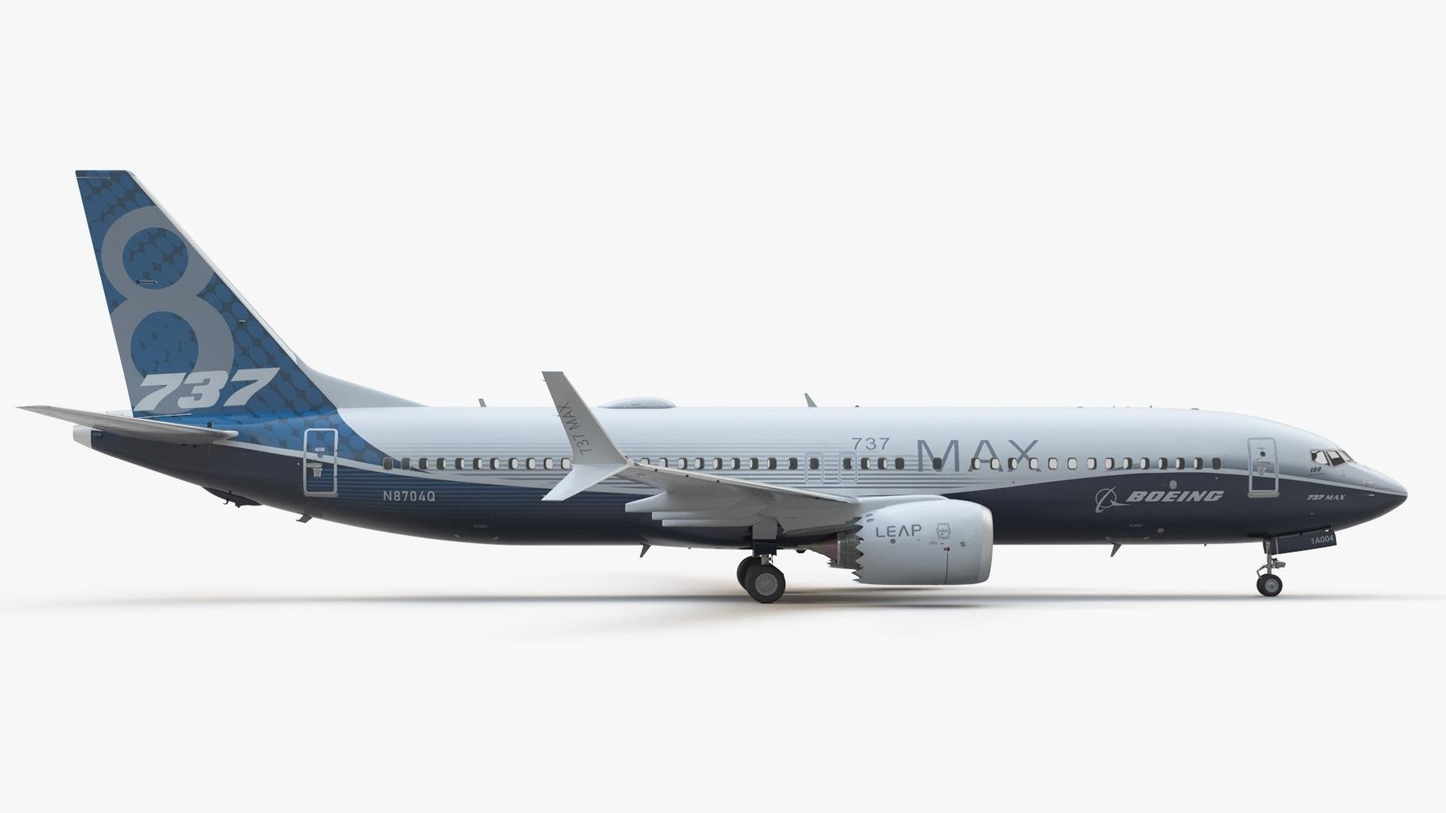aircraft: (20, 158, 1405, 598)
